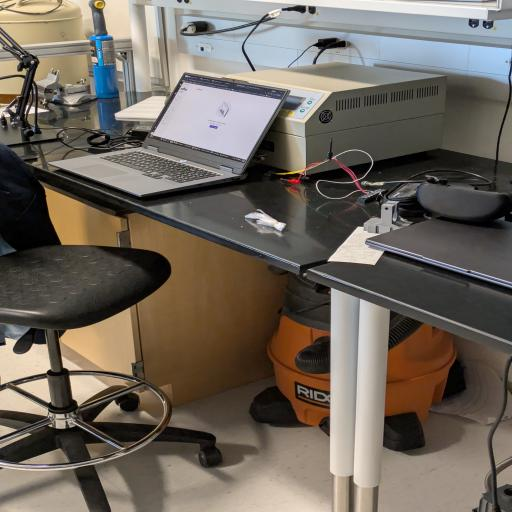rubberband: (242, 207, 289, 234)
